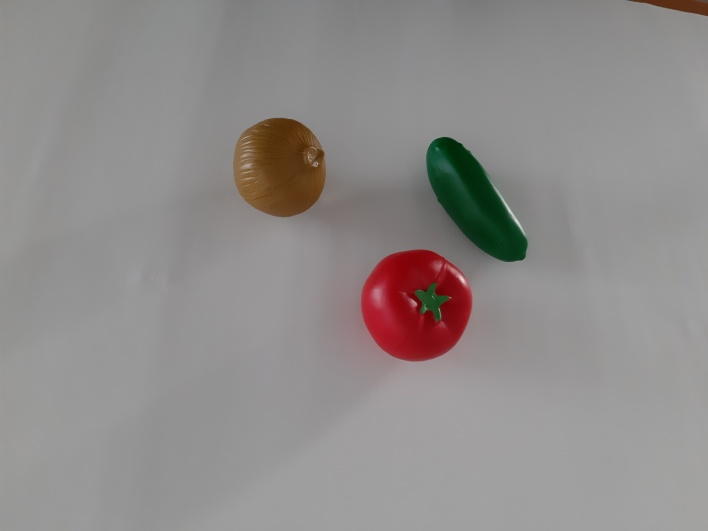cucumber: (411, 128, 552, 271)
onion: (225, 105, 343, 228)
tomato: (352, 239, 486, 376)
